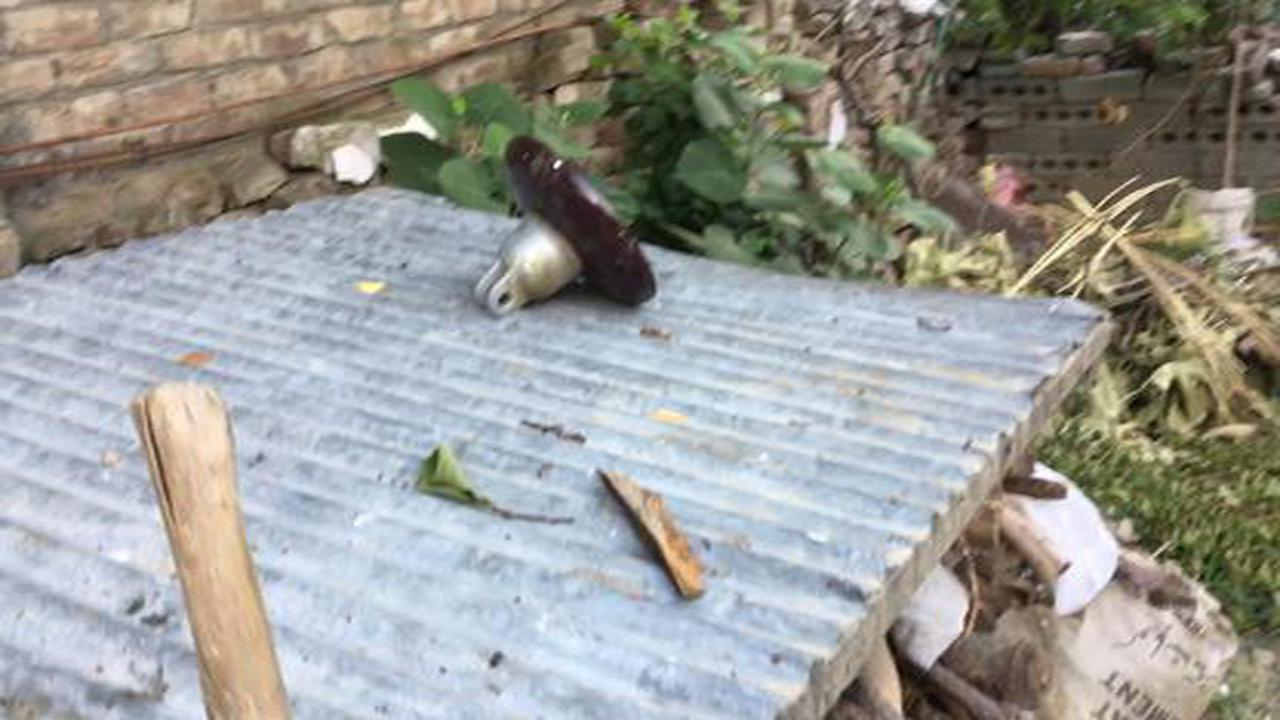insulator_disc: (471, 131, 664, 328)
